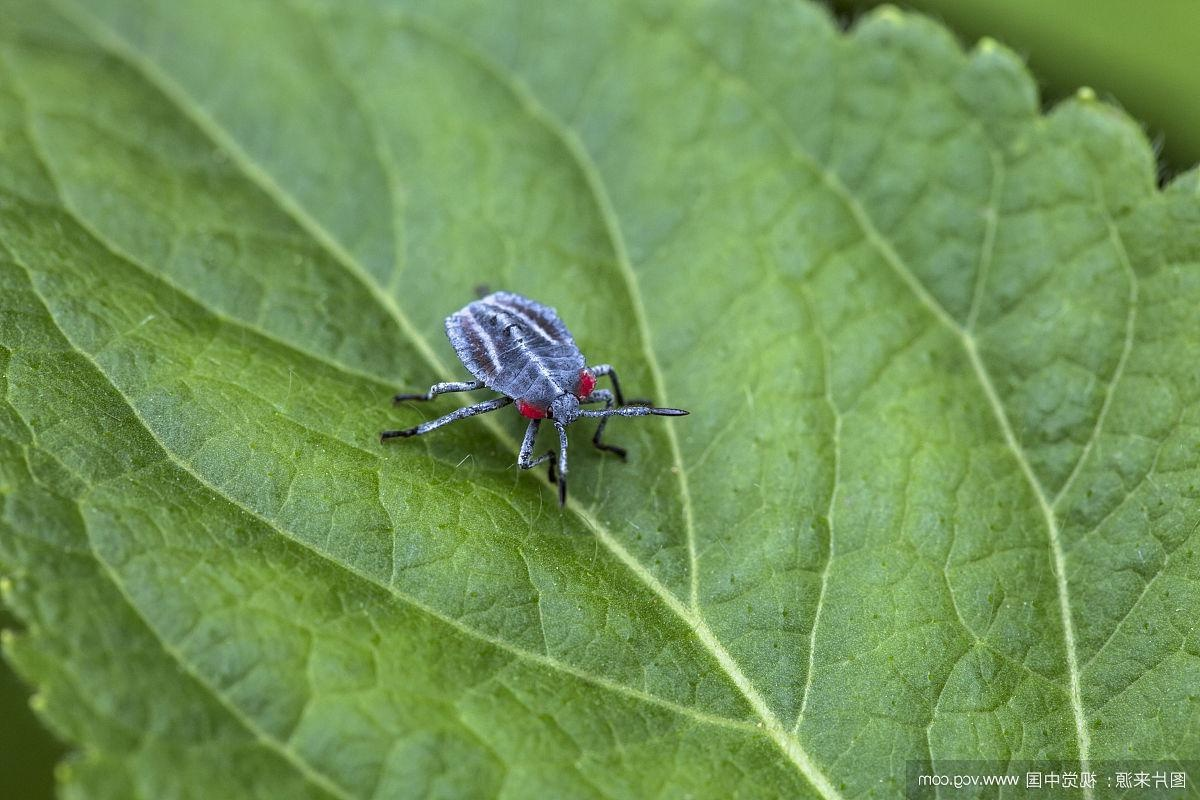Stink_Bug: (403, 283, 652, 450)
